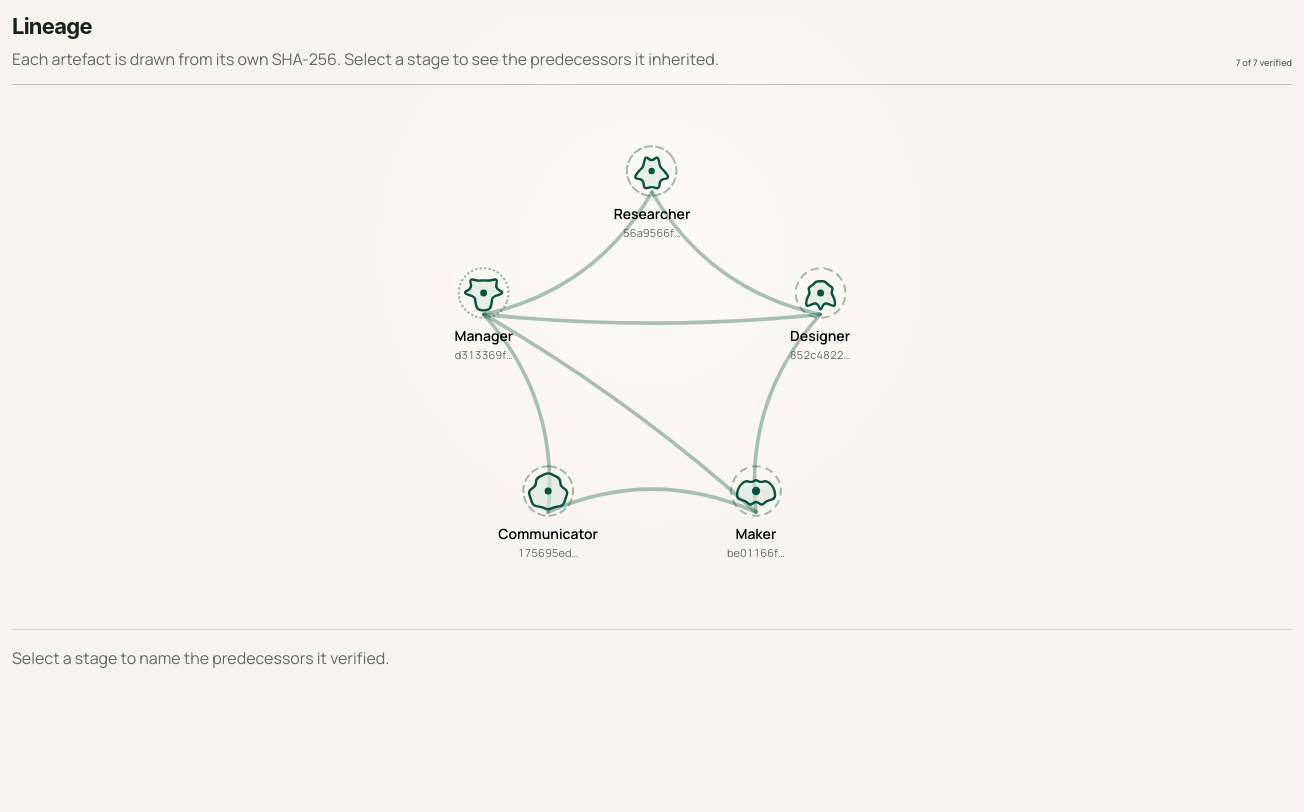
it: LineageConstellation › toggles a stage off when it is selected twice
Click the button "Designer 852c4822…": [820, 314] box [782,258,858,370]
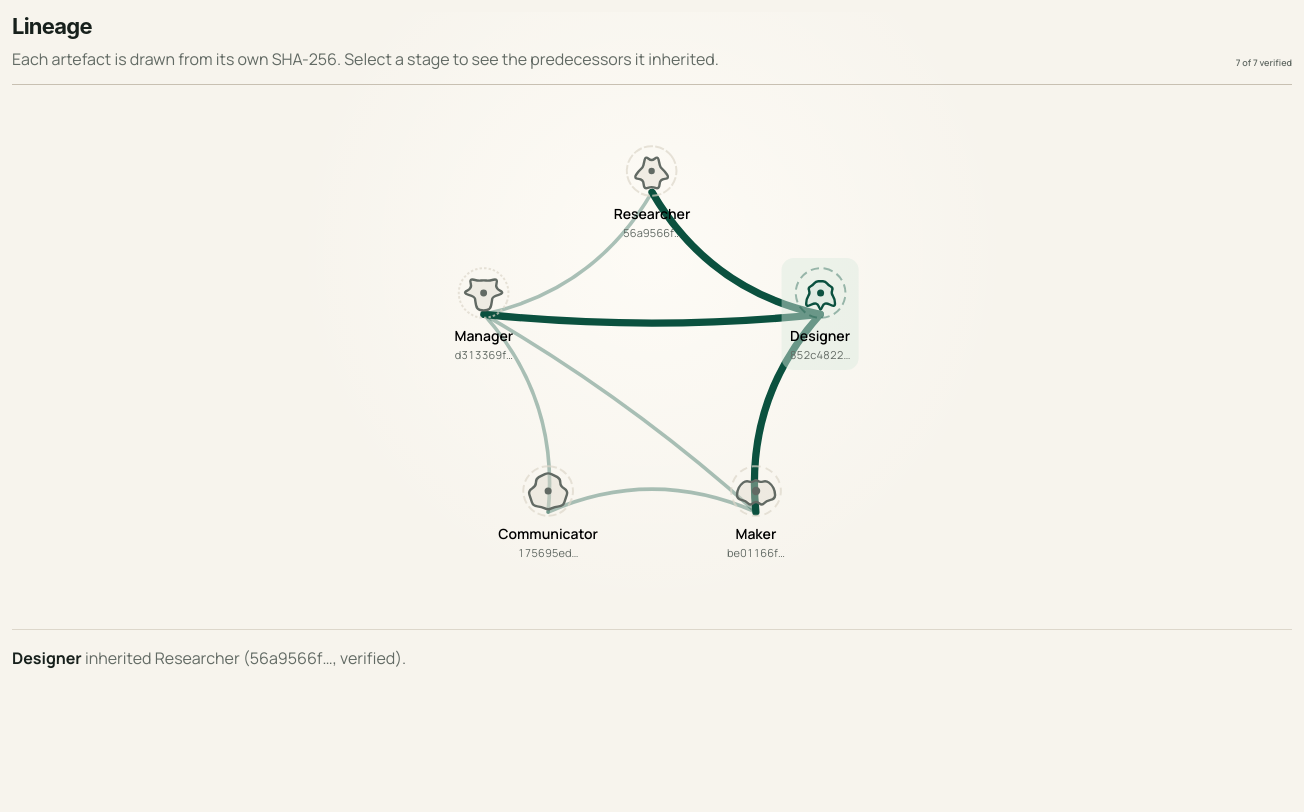
Expected: the button "Designer 852c4822…" is pressed
Click the button "Designer 852c4822…": [820, 314] box [782,258,858,370]
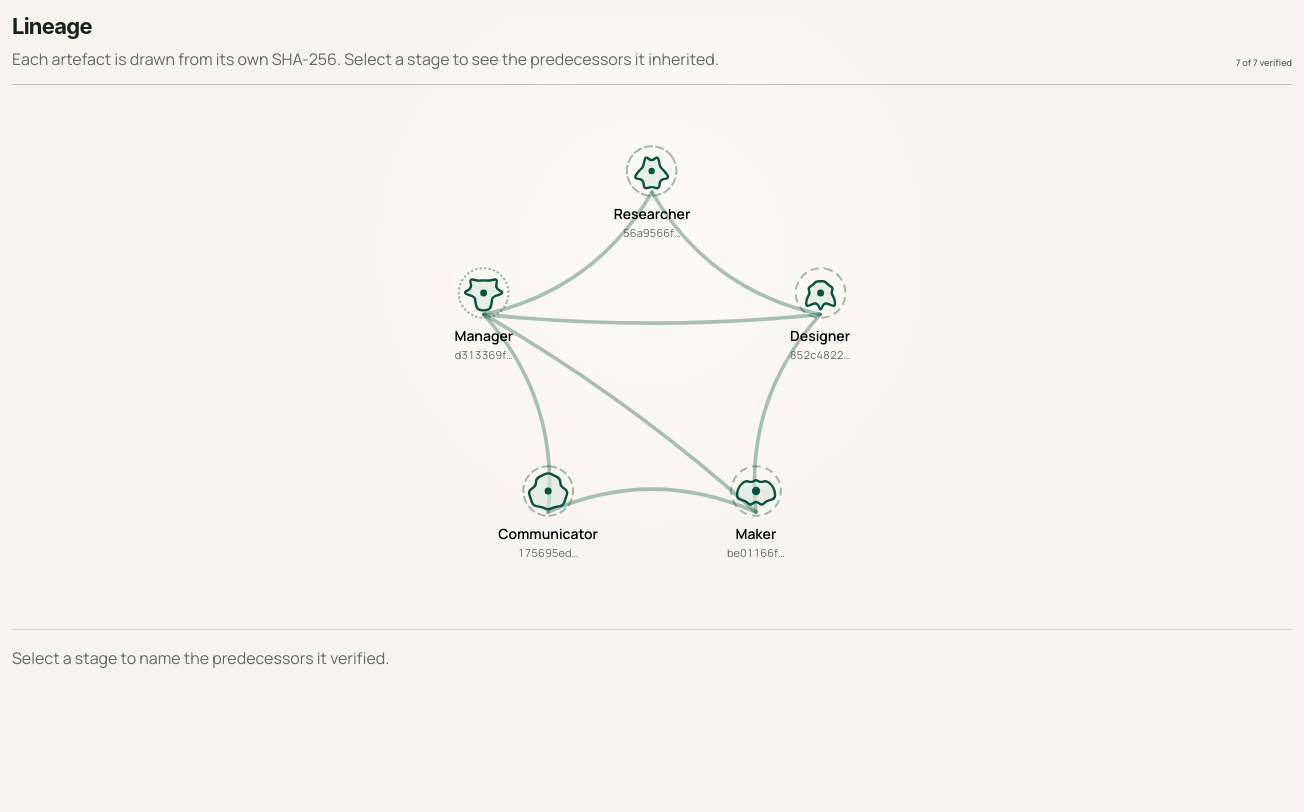
Expected: the text "Select a stage to name the predecessors it verified." is shown, [12,629,1292,670]
